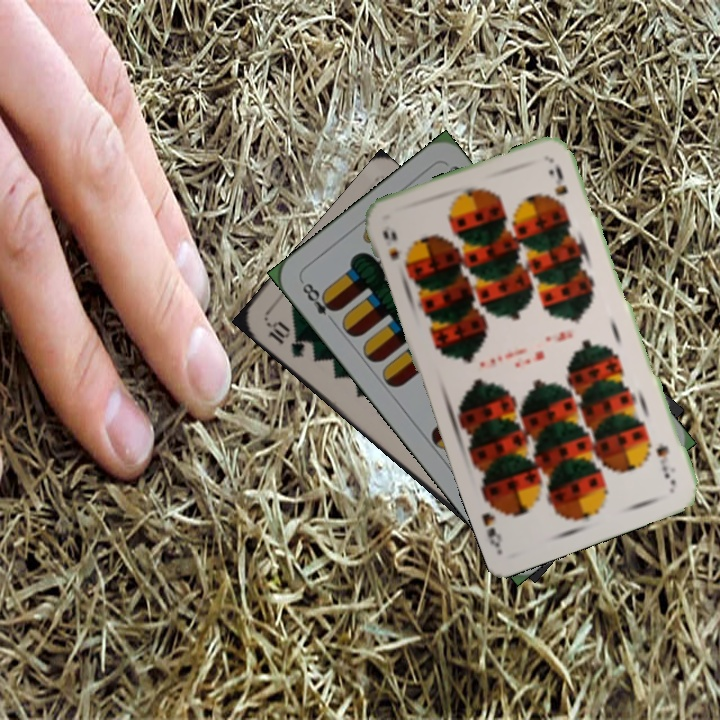E8: (297, 277, 340, 327)
G10: (262, 317, 308, 361)
S9: (652, 440, 679, 487), (378, 226, 402, 263)
